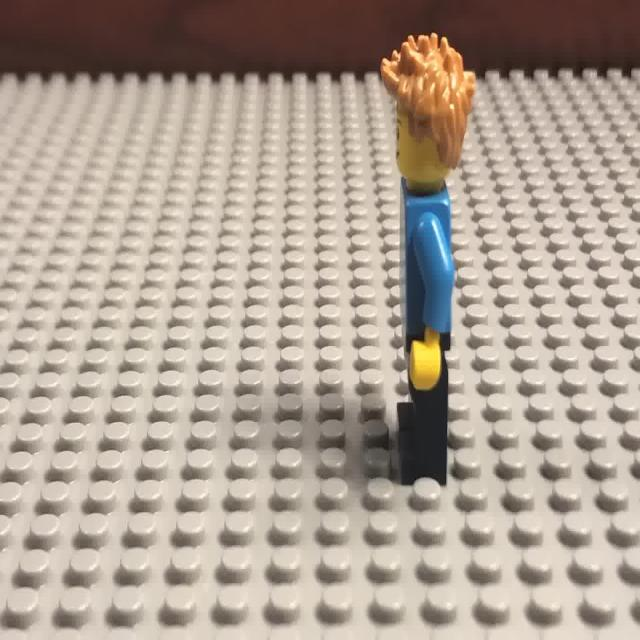4: (424, 199, 452, 400)
hand: (364, 44, 474, 479)
